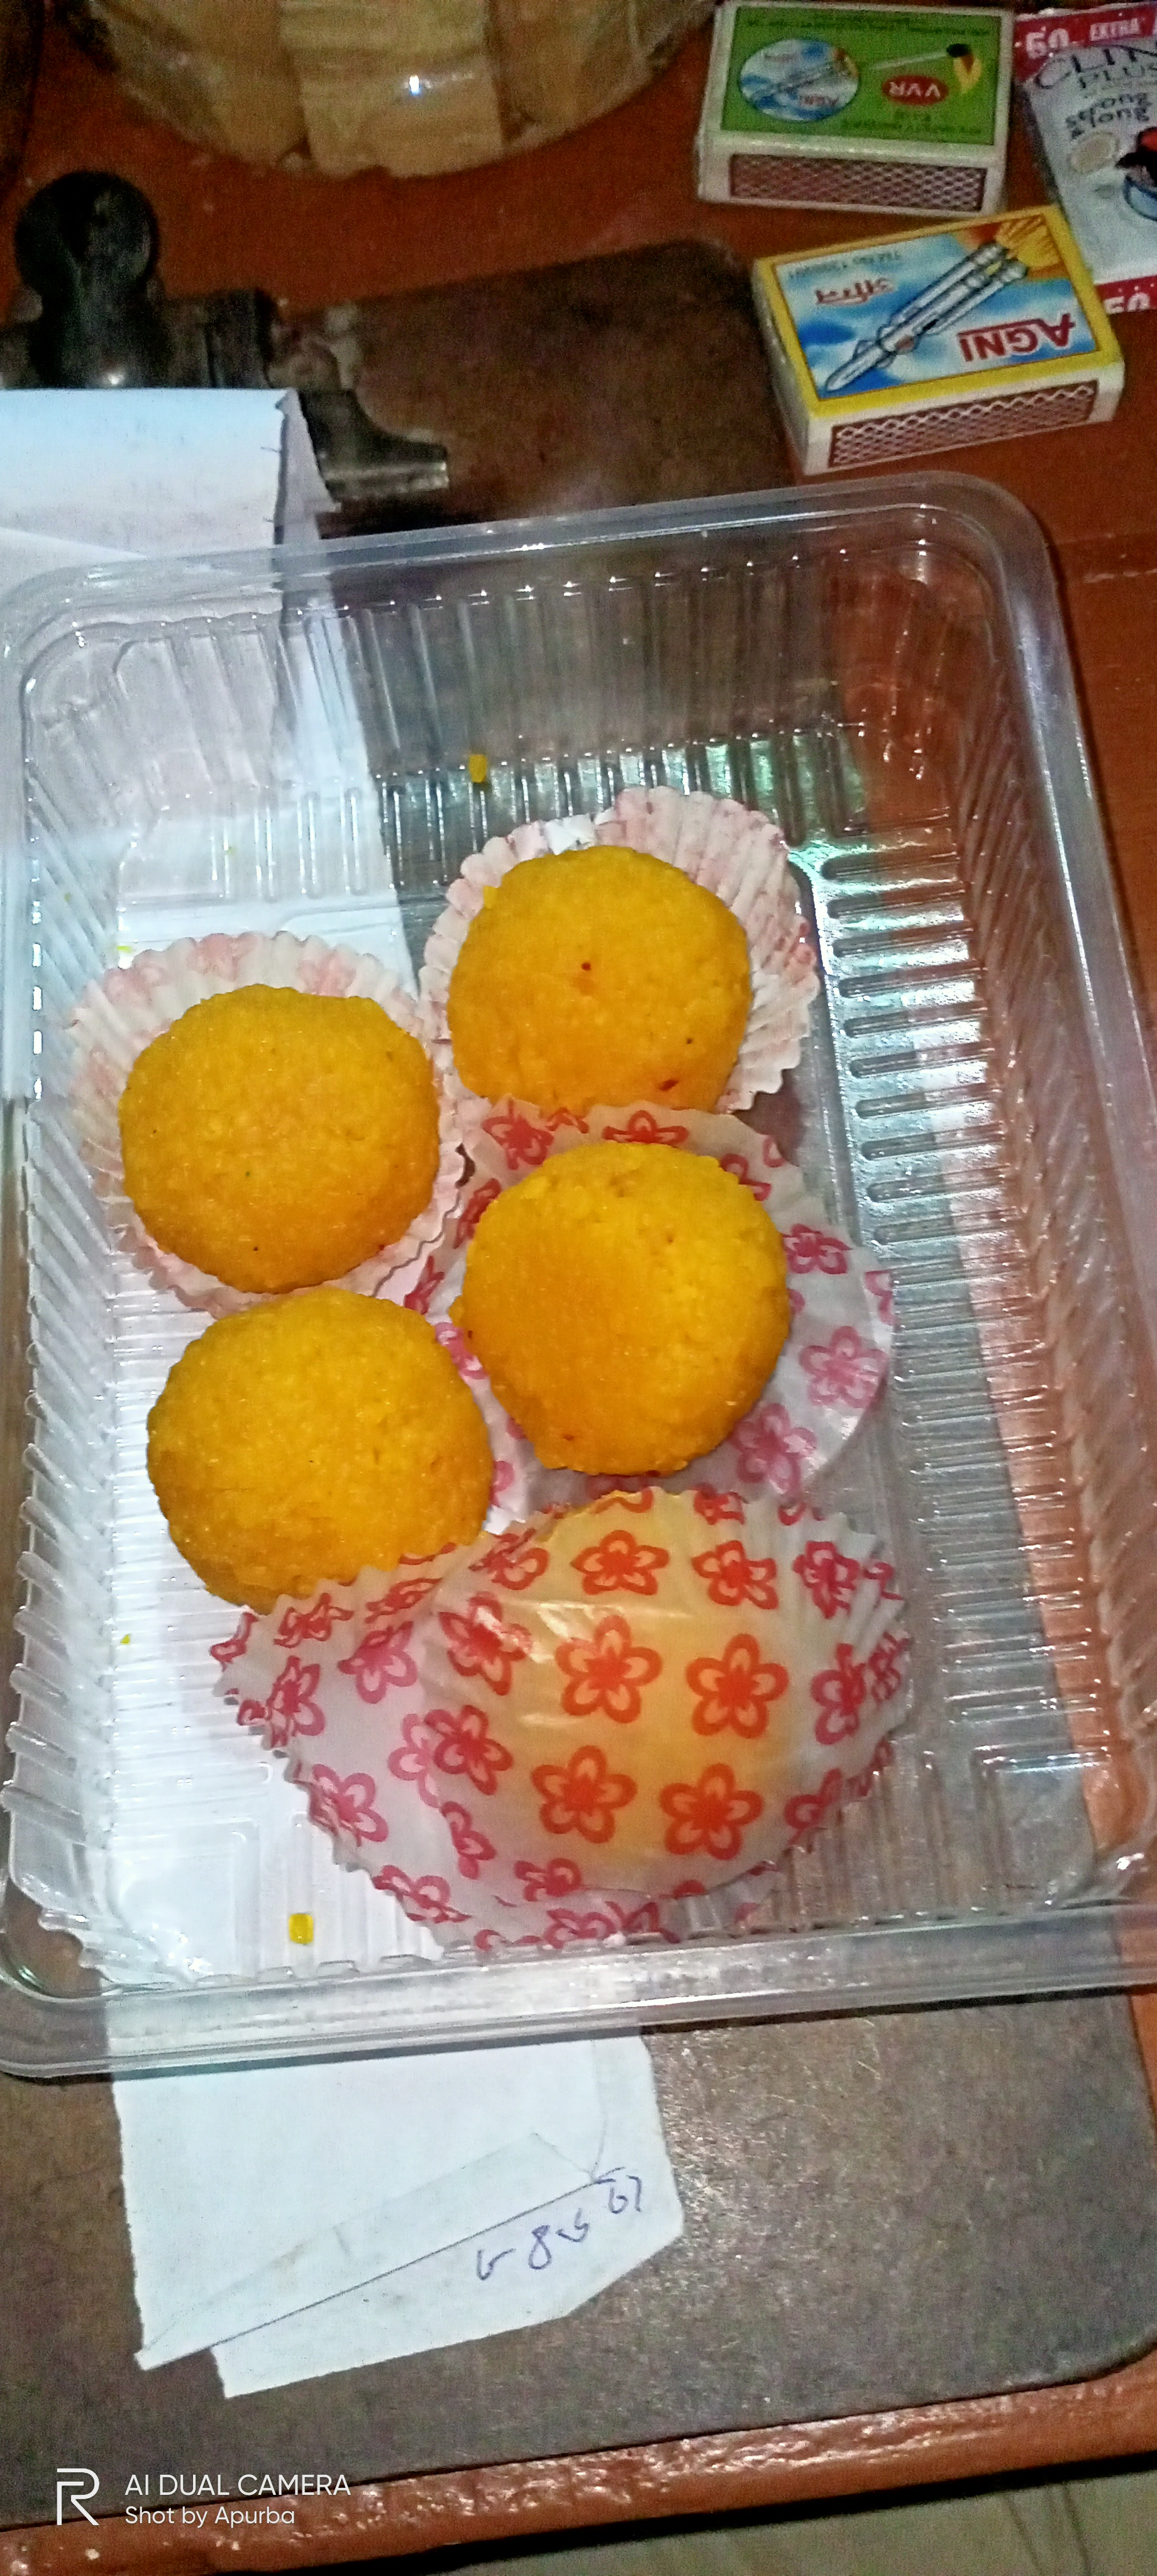food: (107, 835, 915, 1922)
